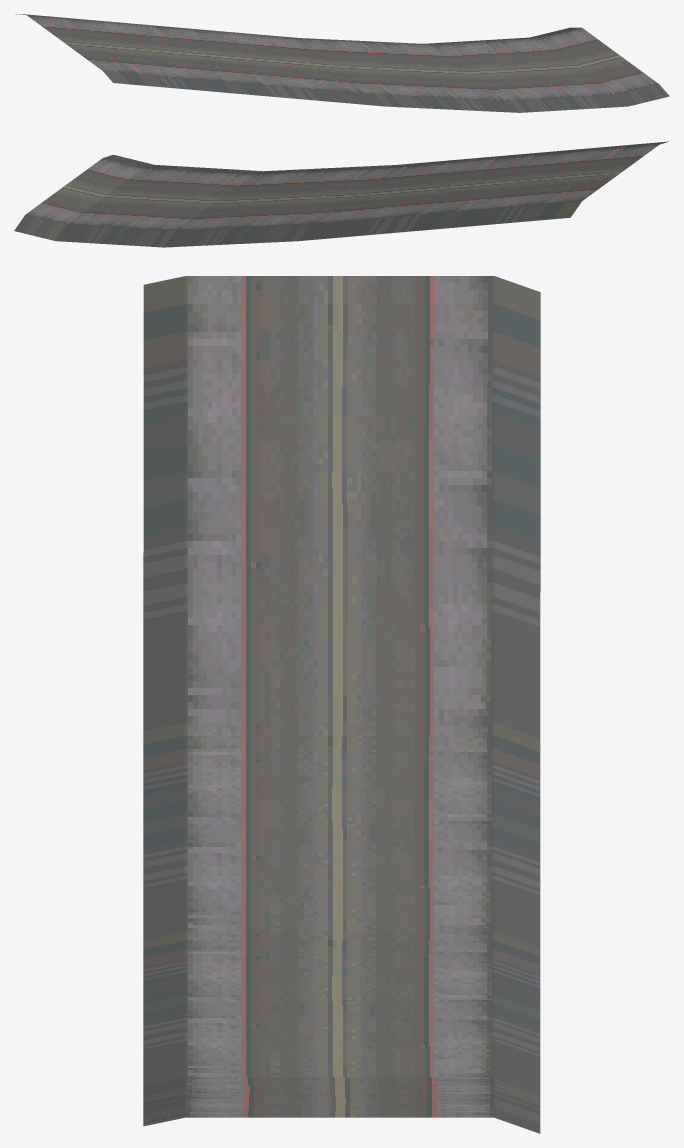
File: lodroadssfs19.obj
3 renders of one model, top to bottom at view 1: azimuth 30°, elevation 25°; view 2: azimuth 150°, elevation 25°; view 3: azimuth 270°, elevation 25°, orthographic. The views are drawn at different scales.
Parts seen in each view (by area): view 1: LODROADSsfs19; view 2: LODROADSsfs19; view 3: LODROADSsfs19.
Boxes of the visible parts, <box> form: LODROADSsfs19: <box>15,14,669,112</box>; LODROADSsfs19: <box>14,141,669,247</box>; LODROADSsfs19: <box>143,276,540,1133</box>.
Size of the model in its own units: 83.14 by 22.44 by 25.7.
1 material, 1 textured.
